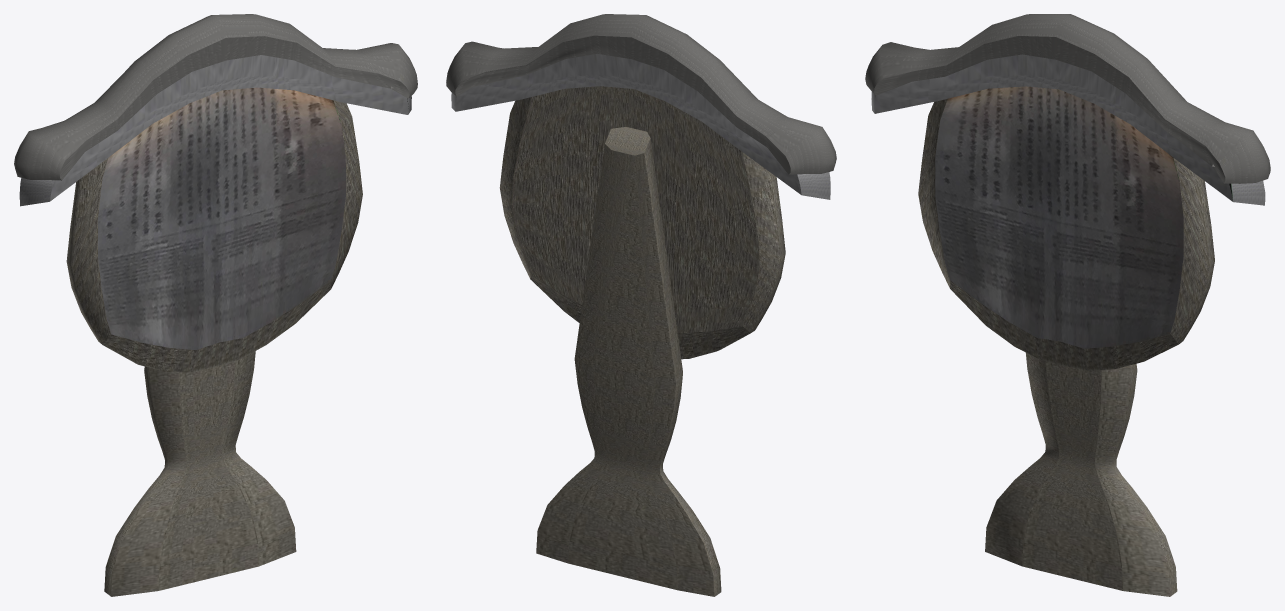
The model's file is Japanese Sign.fbx.
3 views of the same model, side by side, from view 1: azimuth 30°, elevation 25°; view 2: azimuth 150°, elevation 25°; view 3: azimuth 330°, elevation 25° (orthographic). The views are drawn at different scales.
Parts seen in each view (by area): view 1: Japanese Sign; view 2: Japanese Sign; view 3: Japanese Sign.
Boxes of the visible parts, bbox=[...] form: Japanese Sign: bbox=[14, 14, 417, 596]; Japanese Sign: bbox=[446, 14, 836, 596]; Japanese Sign: bbox=[865, 14, 1270, 596].
Bounding box in the file's own units: 405 × 550 × 69.01.
